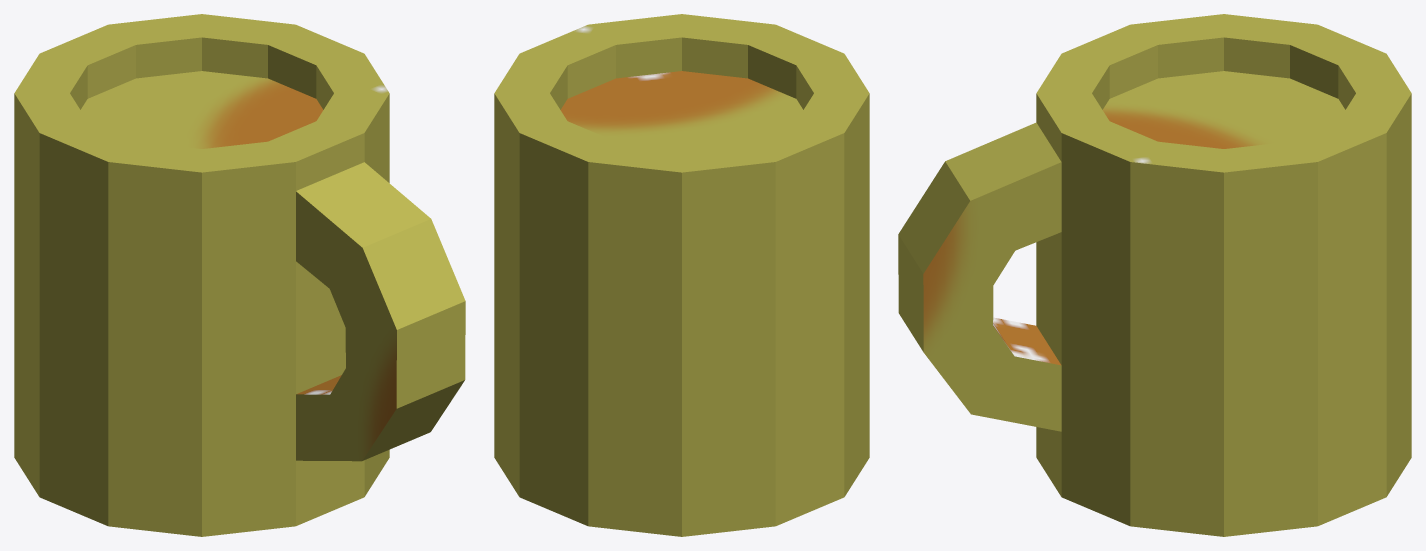
File: kubek.fbx
The picture shows the model from 3 angles, left to right: view 1: azimuth 30°, elevation 25°; view 2: azimuth 150°, elevation 25°; view 3: azimuth 270°, elevation 25°; orthographic projection.
Parts seen in each view (by area): view 1: Cylinder; view 2: Cylinder; view 3: Cylinder.
Part boxes in pixels (<box>): Cylinder: <box>14,14,465,536</box>; Cylinder: <box>494,14,869,536</box>; Cylinder: <box>898,14,1411,536</box>.
Size of the model in its own units: 14 by 15 by 19.15.
1 material, 1 textured.
